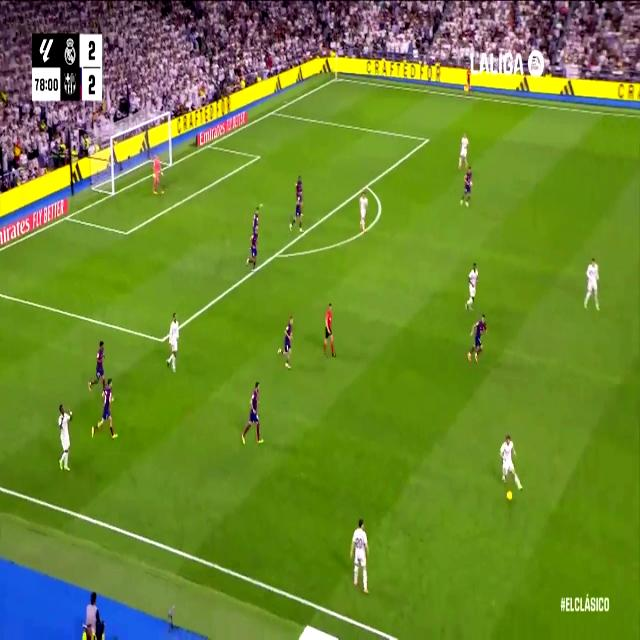bigarea_bottom_inner: (156, 327, 168, 351)
bigarea_top_inner: (424, 132, 430, 146)
bigarea_top_outter: (270, 107, 275, 117)
bottom_arc_area_intersection: (273, 245, 281, 262)
smallarea_bottom_inner: (123, 225, 130, 241)
smallarea_top_inner: (256, 151, 260, 162)
top_arc_area_intersection: (364, 177, 371, 193)
